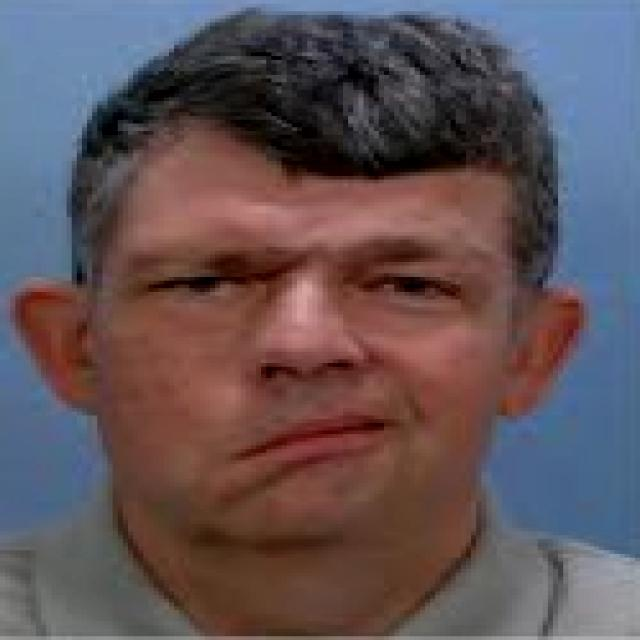stroke_face: (51, 26, 551, 556)
